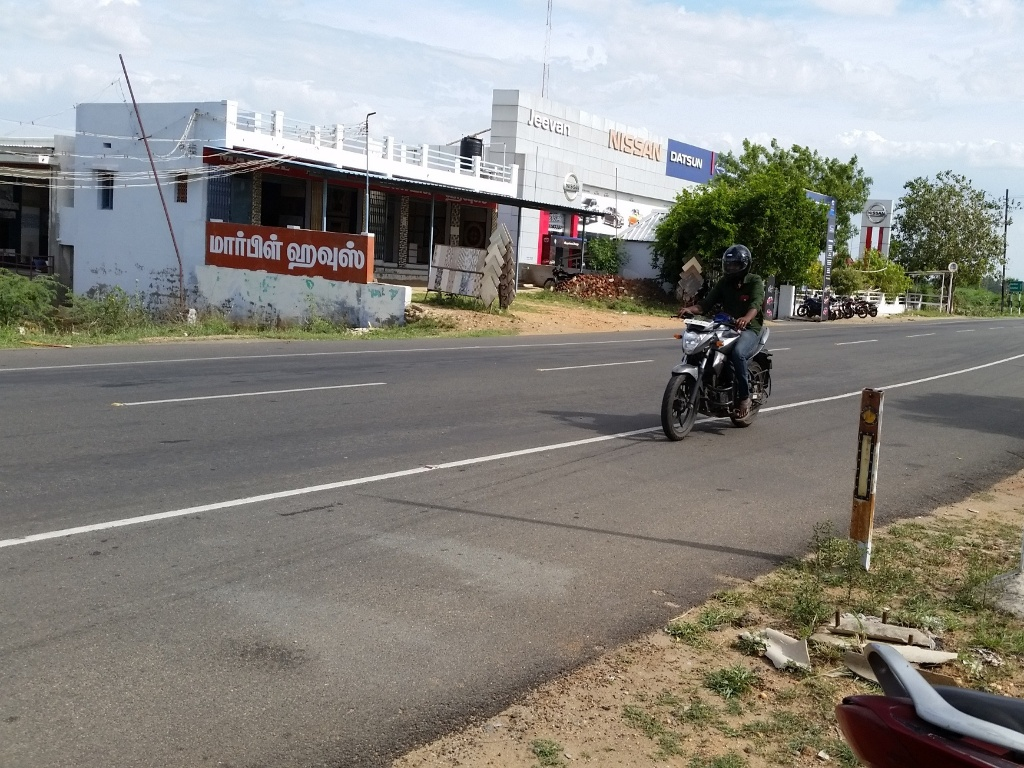biker: (636, 210, 818, 450)
helmet: (718, 235, 763, 290)
